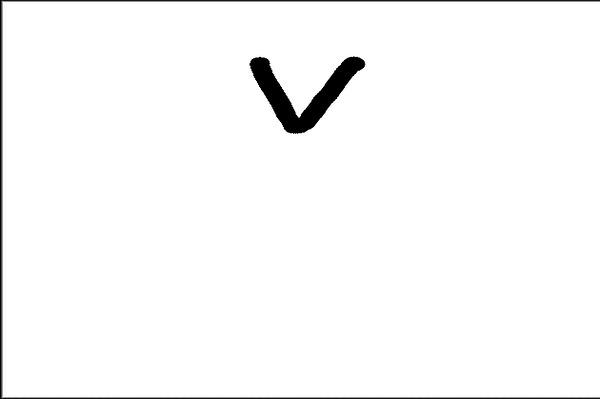V: (241, 45, 375, 151)
